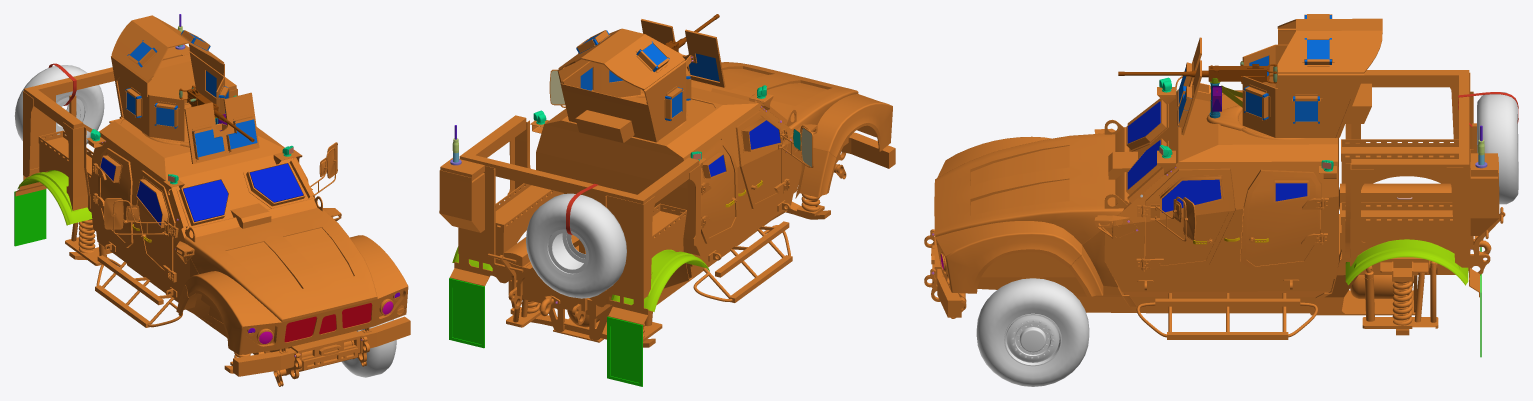
File: Vehicle 02.fbx
The picture shows the model from 3 angles, left to right: view 1: azimuth 30°, elevation 25°; view 2: azimuth 150°, elevation 25°; view 3: azimuth 270°, elevation 25°; orthographic projection. The views are drawn at different scales.
Parts seen in each view (by area): view 1: Vehicle, Spare Tire_low, Tire_low, Machine Gun; view 2: Vehicle, Spare Tire_low; view 3: Vehicle, Tire_low, Spare Tire_low, Wheels, Machine Gun.
Boxes of the visible parts, x1=… form: Vehicle: x1=14, y1=14, x2=410, y2=386; Spare Tire_low: x1=14, y1=65, x2=104, y2=144; Tire_low: x1=341, y1=319, x2=396, y2=377; Machine Gun: x1=179, y1=85, x2=254, y2=142; Vehicle: x1=439, y1=19, x2=895, y2=386; Spare Tire_low: x1=526, y1=193, x2=626, y2=298; Vehicle: x1=924, y1=14, x2=1518, y2=357; Tire_low: x1=976, y1=278, x2=1089, y2=386; Spare Tire_low: x1=1477, y1=92, x2=1518, y2=204; Wheels: x1=1004, y1=313, x2=1061, y2=366; Machine Gun: x1=1118, y1=61, x2=1277, y2=118.
Size of the model in its own units: 2229 by 2419 by 4124.
